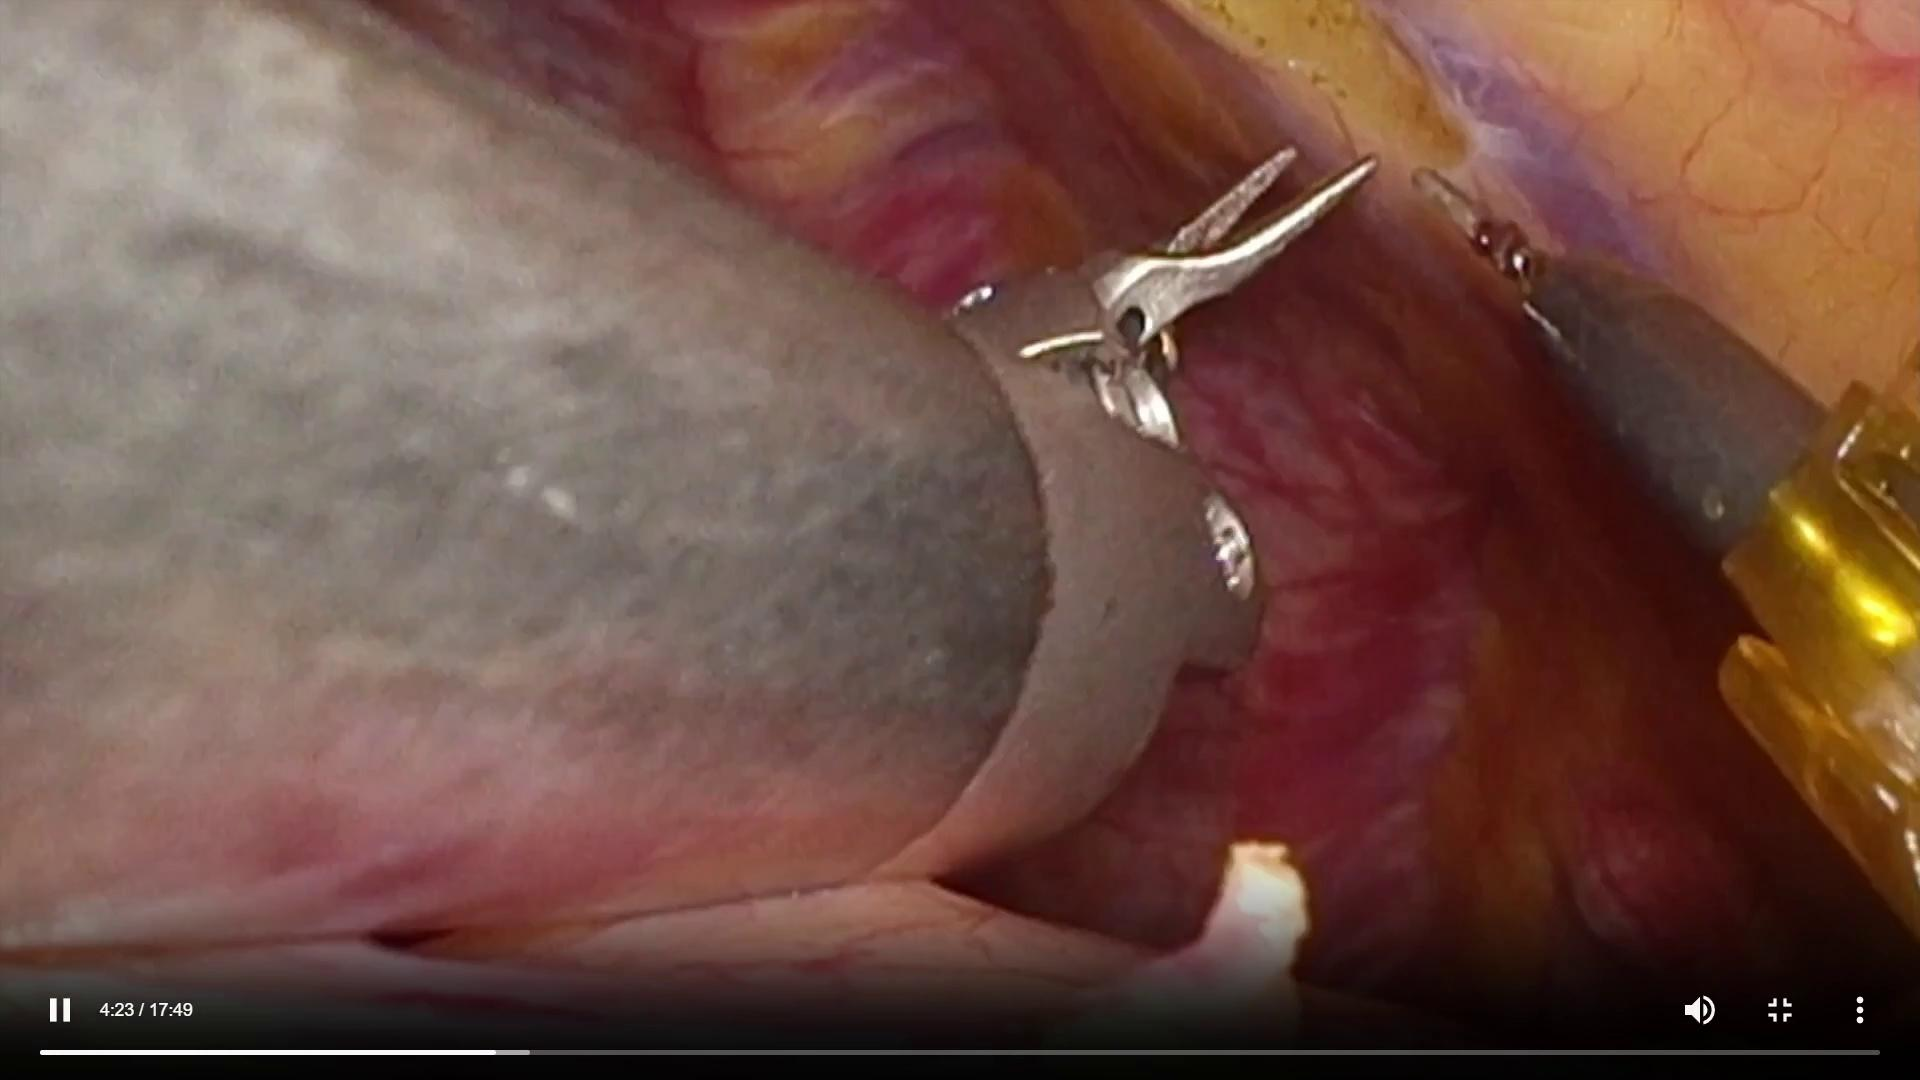Cautery_Spatula: (1412, 162, 1829, 546), (1414, 161, 1549, 290)
Debakey: (1091, 149, 1379, 367)
